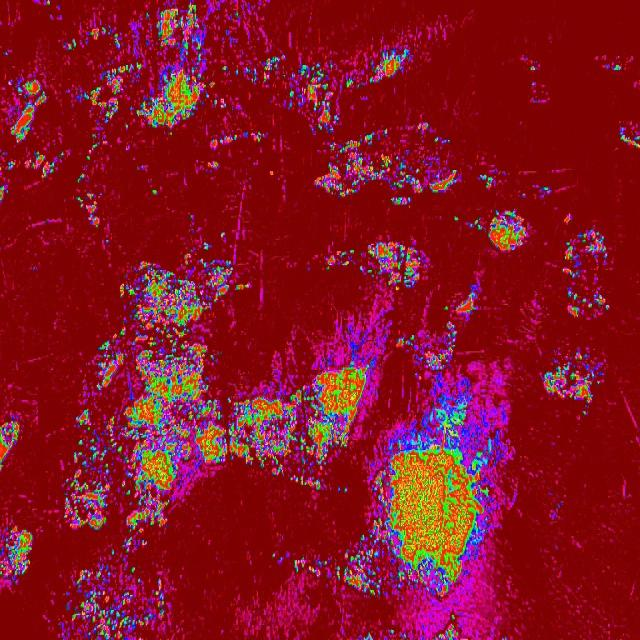fire: (93, 252, 226, 537), (372, 378, 500, 604), (316, 128, 462, 208), (280, 356, 368, 474), (136, 2, 213, 128), (56, 559, 164, 640), (225, 388, 281, 477), (541, 346, 605, 408), (286, 59, 340, 130), (63, 406, 92, 530), (82, 61, 136, 121), (366, 238, 424, 291), (8, 74, 50, 144), (397, 322, 458, 369), (560, 229, 608, 279), (486, 205, 530, 256), (0, 527, 33, 591), (562, 282, 612, 319), (346, 530, 372, 596), (368, 47, 413, 82), (23, 150, 67, 180), (206, 130, 272, 148), (75, 192, 102, 232), (0, 416, 19, 470), (290, 553, 326, 577), (451, 286, 478, 318), (260, 52, 284, 88), (88, 25, 120, 49), (324, 246, 354, 270), (619, 125, 640, 154), (288, 473, 325, 489), (120, 535, 146, 555), (436, 622, 464, 640), (5, 158, 24, 172), (245, 64, 258, 84), (536, 182, 552, 198), (212, 94, 228, 110), (466, 218, 484, 232), (479, 174, 494, 190), (602, 62, 622, 73), (0, 182, 10, 204), (225, 258, 231, 291), (344, 74, 355, 92), (63, 37, 77, 51), (205, 160, 221, 172), (233, 281, 254, 290), (91, 132, 100, 152), (200, 240, 212, 252), (562, 209, 572, 223), (270, 552, 284, 562), (416, 120, 430, 130), (334, 566, 342, 582), (528, 62, 538, 74), (580, 409, 590, 420), (360, 632, 372, 640), (232, 68, 240, 80), (43, 0, 52, 10), (75, 173, 85, 182), (389, 627, 397, 637), (84, 154, 94, 162), (3, 48, 11, 58), (338, 486, 348, 494), (219, 232, 227, 242), (234, 11, 242, 21), (268, 168, 276, 178), (150, 187, 157, 198), (402, 632, 411, 640), (188, 213, 196, 222), (442, 304, 449, 314), (452, 216, 460, 224), (110, 548, 116, 558), (358, 82, 364, 92), (450, 614, 457, 622), (359, 264, 364, 274), (221, 64, 228, 71), (124, 122, 130, 130), (168, 130, 173, 138), (522, 193, 528, 199), (105, 238, 109, 244)
